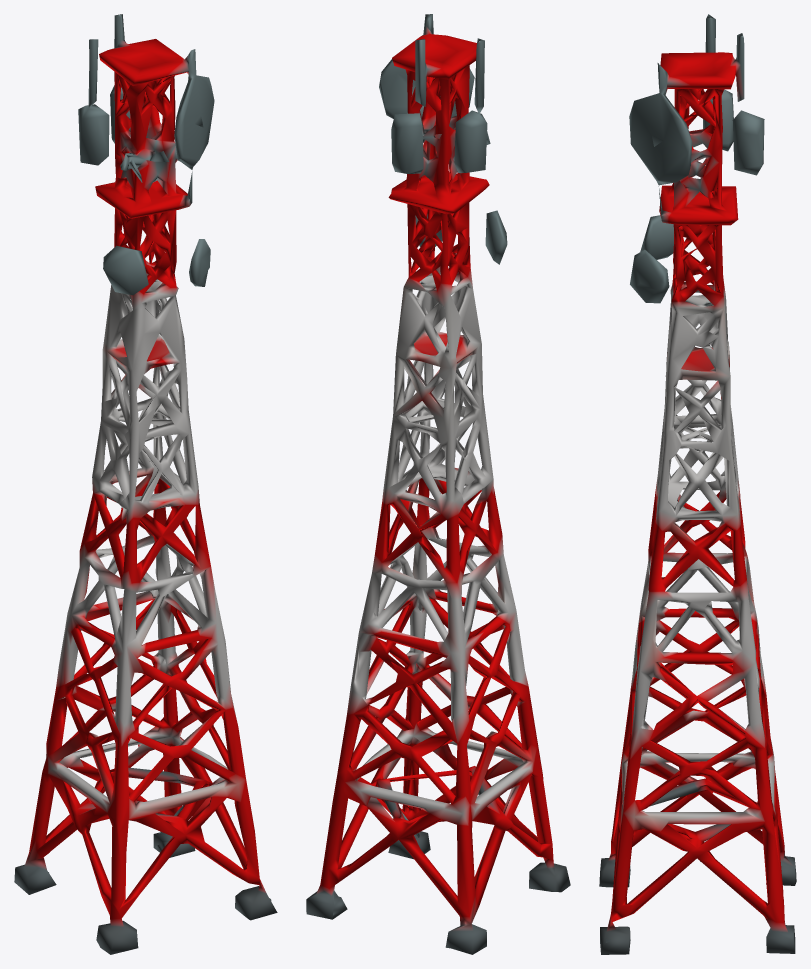
File: gen3d-antenna-tower-lod0.glb
3 views of the same model, side by side, from view 1: azimuth 30°, elevation 25°; view 2: azimuth 150°, elevation 25°; view 3: azimuth 270°, elevation 25° (orthographic).
Parts seen in each view (by area): view 1: part_0; view 2: part_0; view 3: part_0.
Part boxes in pixels (x1=…): part_0: x1=14, y1=14, x2=277, y2=954; part_0: x1=306, y1=14, x2=570, y2=954; part_0: x1=599, y1=14, x2=796, y2=954.
Size of the model in its own units: 0.2005 by 0.996 by 0.2026.
